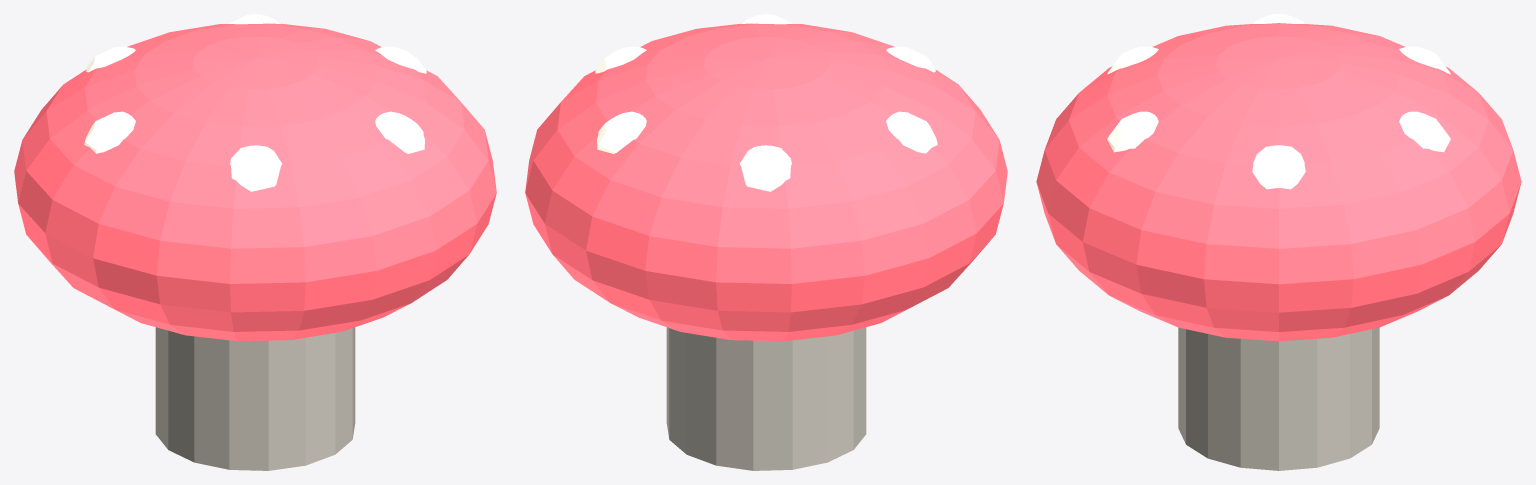
File: mushroom_bumper.glb
3 renders of one model, left to right at view 1: azimuth 30°, elevation 25°; view 2: azimuth 150°, elevation 25°; view 3: azimuth 270°, elevation 25°, orthographic.
Visible parts, largest first — view 1: Sphere, Cylinder, Sphere.005, Sphere.006, Sphere.004, Sphere.001, Sphere.003; view 2: Sphere, Cylinder, Sphere.003, Sphere.002, Sphere.004, Sphere.001, Sphere.005; view 3: Sphere, Cylinder, Sphere.001, Sphere.002, Sphere.006, Sphere.003, Sphere.005.
Boxes of the visible parts, x1,y1,x2,y2 form: Sphere: [14, 23, 496, 341]; Cylinder: [155, 327, 355, 470]; Sphere.005: [230, 145, 281, 191]; Sphere.006: [375, 111, 424, 153]; Sphere.004: [84, 111, 135, 153]; Sphere.001: [375, 46, 426, 73]; Sphere.003: [86, 46, 135, 72]; Sphere: [525, 23, 1007, 341]; Cylinder: [666, 327, 866, 470]; Sphere.003: [740, 145, 791, 191]; Sphere.002: [597, 111, 646, 153]; Sphere.004: [886, 111, 937, 153]; Sphere.001: [595, 46, 646, 73]; Sphere.005: [886, 46, 935, 72]; Sphere: [1036, 23, 1521, 341]; Cylinder: [1178, 327, 1379, 470]; Sphere.001: [1252, 145, 1305, 189]; Sphere.002: [1399, 111, 1450, 152]; Sphere.006: [1107, 111, 1158, 152]; Sphere.003: [1399, 46, 1450, 74]; Sphere.005: [1107, 46, 1158, 74].
Size of the model in its own units: 1.64 by 1.38 by 1.64.
